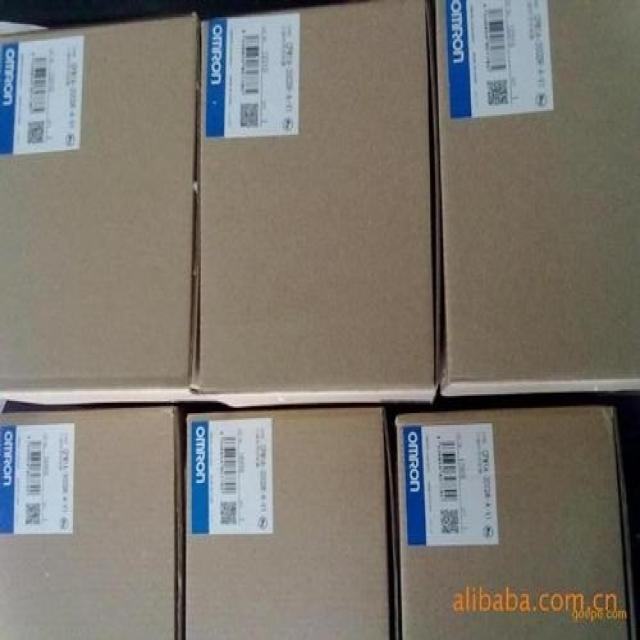box: (192, 1, 437, 411), (430, 1, 639, 404), (0, 12, 203, 412), (396, 400, 637, 637), (180, 407, 398, 635), (1, 403, 178, 637)
